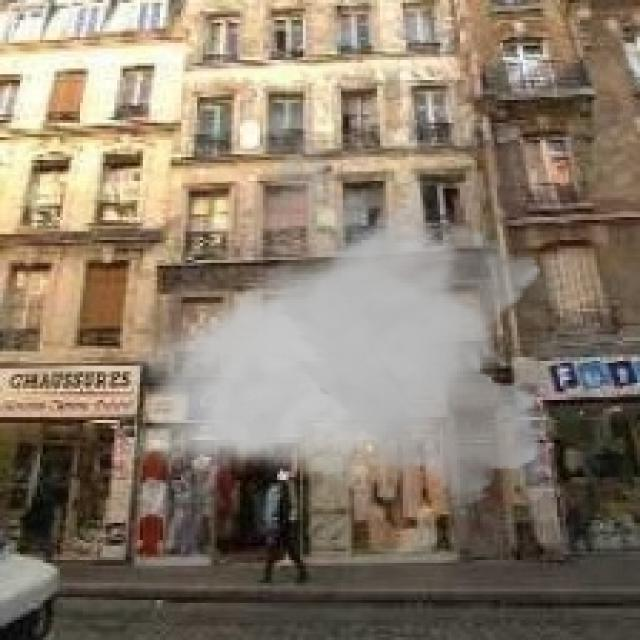Smoke: (126, 140, 552, 517)
